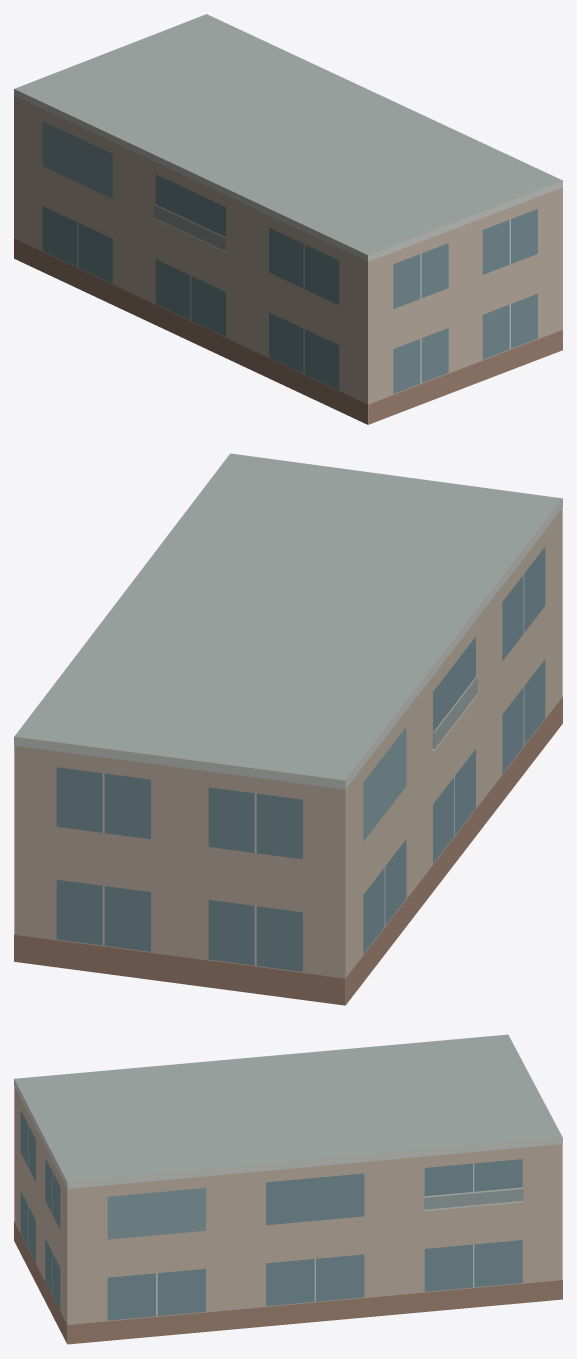
File: survey-upis-32847259.glb
3 views of the same model, one above another, from view 1: azimuth 30°, elevation 25°; view 2: azimuth 150°, elevation 25°; view 3: azimuth 270°, elevation 25° (orthographic). The views are drawn at different scales.
Parts seen in each view (by area): view 1: survey-upis-32847259.tmp; view 2: survey-upis-32847259.tmp; view 3: survey-upis-32847259.tmp.
Boxes of the visible parts, x1,y1,x2,y2 form: survey-upis-32847259.tmp: (14,14,562,424); survey-upis-32847259.tmp: (14,453,562,1005); survey-upis-32847259.tmp: (14,1034,562,1344).
Bounding box in the file's own units: 11.97 × 6.1 × 18.74.
